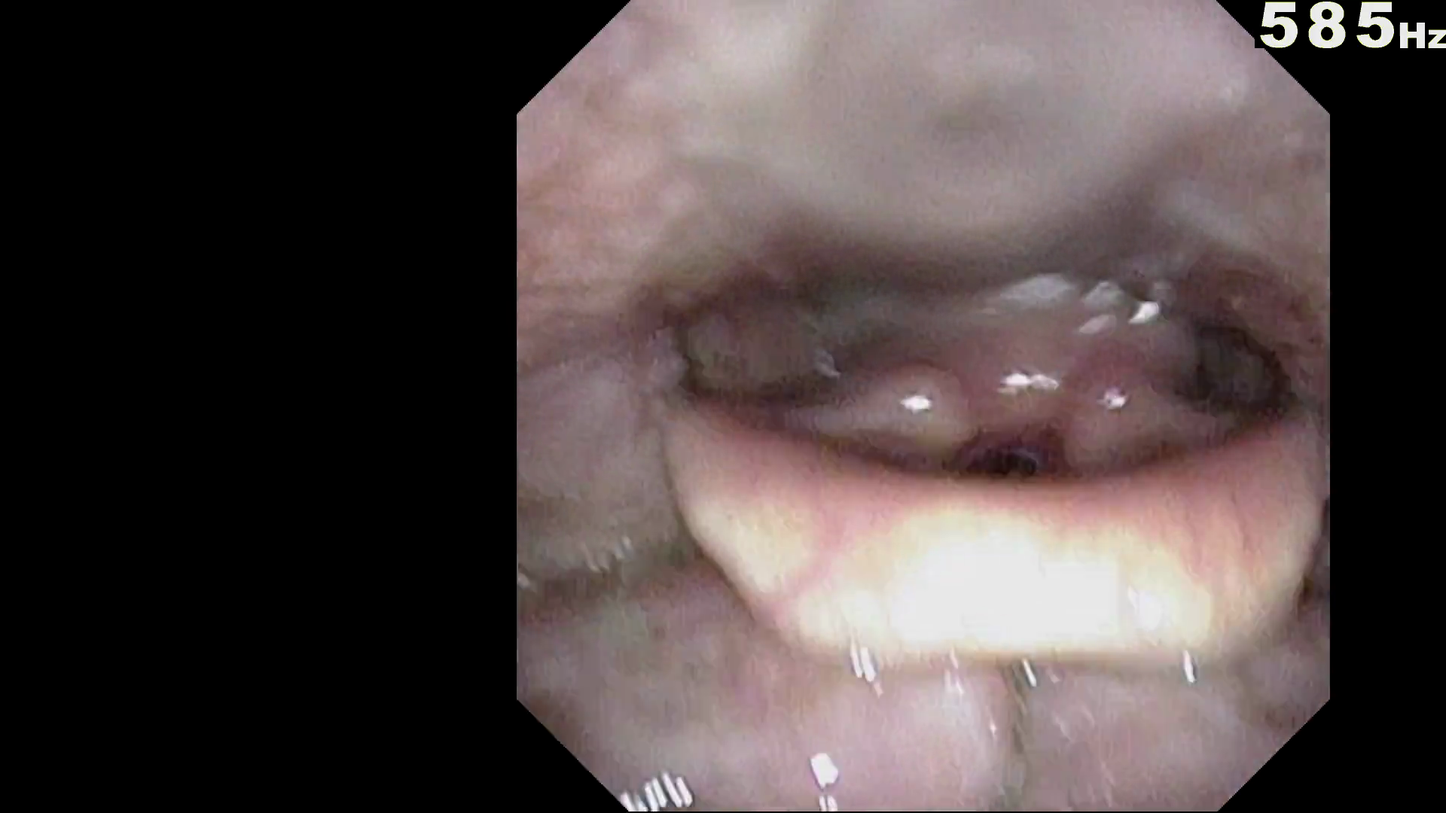epiglottis: (656, 378, 1319, 679)
trachea: (942, 422, 1072, 494)
